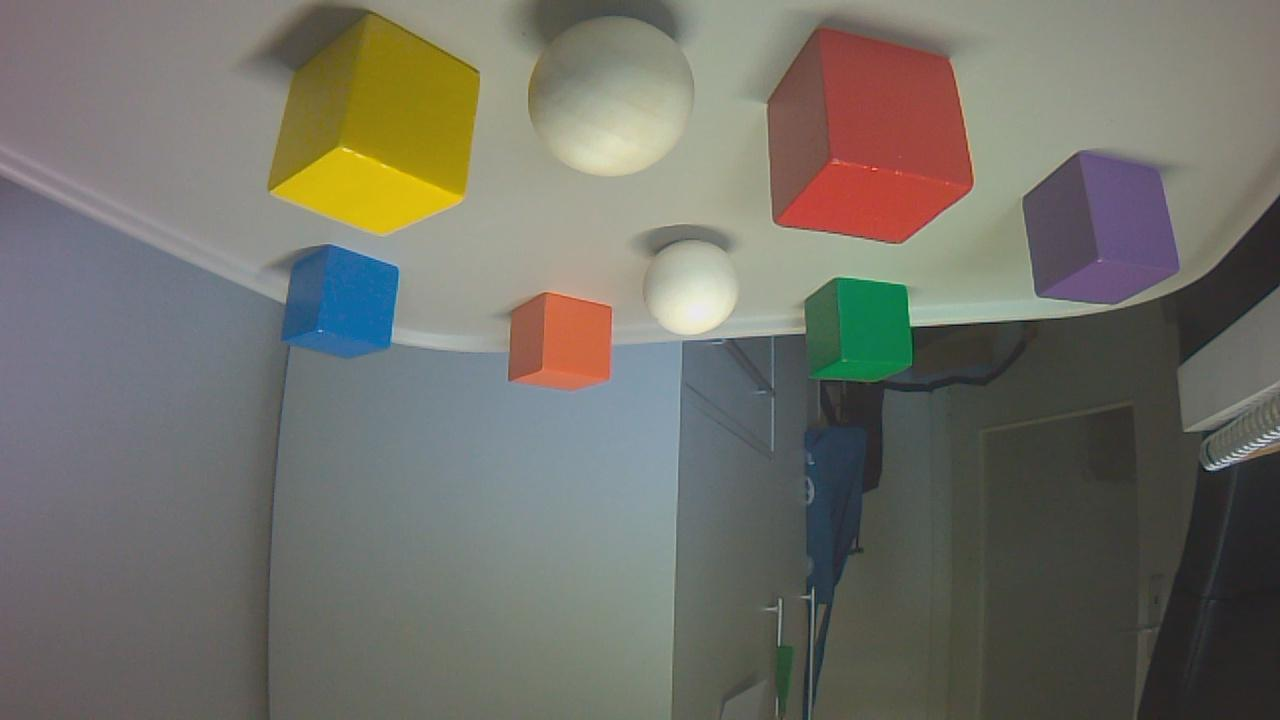ball: (525, 24, 698, 177), (642, 237, 740, 336)
cube_blue: (276, 250, 402, 361)
cube_green: (794, 277, 915, 379)
cube_orange: (500, 288, 616, 389)
cube_purple: (1021, 140, 1181, 308)
cube_red: (745, 25, 978, 245)
cube_yellow: (265, 21, 482, 238)
